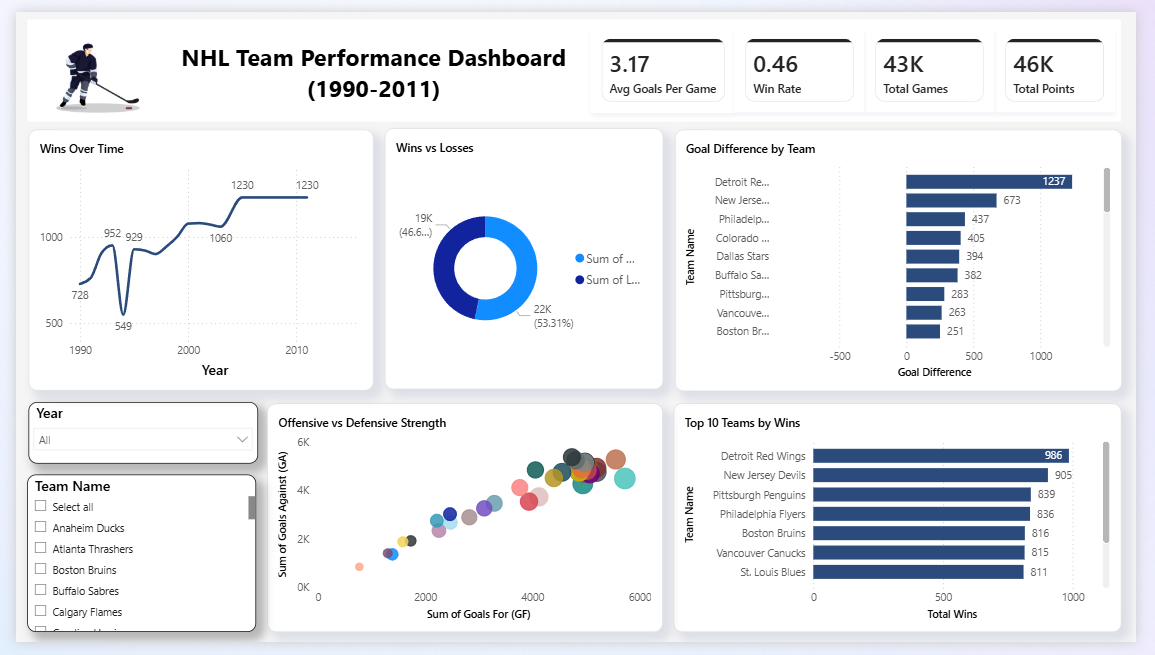

The dashboard page shown, as its layout file describes it:
{"tool":"powerbi","page":{"name":"Overview","canvas":[1280,720],"ordinal":0},"visuals":[{"type":"shape","box":[13.3,8.3,1250,116.7],"z":0},{"type":"barChart","title":"Top 10 Teams by Wins","fields":{"Category":["nhl_data_clean.Team Name"],"Y":["Sum(nhl_data_clean.Wins)"]},"box":[751.7,446.7,511.7,261.7],"z":1000},{"type":"slicer","fields":{"Values":["nhl_data_clean.Year"]},"box":[14,446,262,70],"z":2000},{"type":"scatterChart","title":"Offensive vs Defensive Strength","fields":{"X":["Sum(nhl_data_clean.Goals For (GF))"],"Y":["Sum(nhl_data_clean.Goals Against (GA))"],"Category":["nhl_data_clean.Team Name"],"Series":["nhl_data_clean.Team Name"],"Size":["Sum(nhl_data_clean.Wins)"]},"box":[287,446.6,451.7,261.5],"z":3000},{"type":"clusteredBarChart","title":"Goal Difference by Team","fields":{"Category":["nhl_data_clean.Team Name"],"Y":["Sum(nhl_data_clean.Goal Difference)"]},"box":[752.2,134.1,511.1,298.9],"z":4000},{"type":"textbox","box":[176.7,28.3,463.3,90],"z":5000},{"type":"lineChart","title":"Wins Over Time","fields":{"Category":["nhl_data_clean.Year"],"Y":["Sum(nhl_data_clean.Wins)"]},"box":[14,134,394,298],"z":6000},{"type":"cardVisual","fields":{"Data":["nhl_data_clean.Total Points"]},"box":[1119.1,18.2,137.3,96.4],"z":7000},{"type":"image","box":[26.7,15,131.7,103.3],"z":8000},{"type":"slicer","fields":{"Values":["nhl_data_clean.Team Name"]},"box":[13.3,528.3,261.7,180],"z":9000},{"type":"cardVisual","fields":{"Data":["nhl_data_clean.Avg Goals Per Game"]},"box":[656.7,18.3,165,96.7],"z":10000},{"type":"cardVisual","fields":{"Data":["nhl_data_clean.Total Games"]},"box":[970.6,18.2,148.2,96.4],"z":11000},{"type":"cardVisual","fields":{"Data":["nhl_data_clean.Win Rate"]},"box":[822,18.2,148.2,96.4],"z":12000},{"type":"donutChart","title":"Wins vs Losses","fields":{"Y":["Sum(nhl_data_clean.Wins)","Sum(nhl_data_clean.Losses)"]},"box":[421.7,133.3,318.3,298.3],"z":13000}]}

Visuals, with their boxes in screenshot pixels (x1, y1, x2, y2), scaled from the page's 1280x720 canvas onto the 1155x655 screenshot:
shape: {"left": 12, "top": 8, "right": 1140, "bottom": 114}
"Top 10 Teams by Wins" barChart: {"left": 678, "top": 406, "right": 1140, "bottom": 644}
slicer - nhl_data_clean.Year: {"left": 13, "top": 406, "right": 249, "bottom": 469}
"Offensive vs Defensive Strength" scatterChart: {"left": 259, "top": 406, "right": 667, "bottom": 644}
"Goal Difference by Team" clusteredBarChart: {"left": 679, "top": 122, "right": 1140, "bottom": 394}
textbox: {"left": 159, "top": 26, "right": 578, "bottom": 108}
"Wins Over Time" lineChart: {"left": 13, "top": 122, "right": 368, "bottom": 393}
cardVisual - nhl_data_clean.Total Points: {"left": 1010, "top": 17, "right": 1134, "bottom": 104}
image: {"left": 24, "top": 14, "right": 143, "bottom": 108}
slicer - nhl_data_clean.Team Name: {"left": 12, "top": 481, "right": 248, "bottom": 644}
cardVisual - nhl_data_clean.Avg Goals Per Game: {"left": 593, "top": 17, "right": 741, "bottom": 105}
cardVisual - nhl_data_clean.Total Games: {"left": 876, "top": 17, "right": 1010, "bottom": 104}
cardVisual - nhl_data_clean.Win Rate: {"left": 742, "top": 17, "right": 875, "bottom": 104}
"Wins vs Losses" donutChart: {"left": 381, "top": 121, "right": 668, "bottom": 393}
